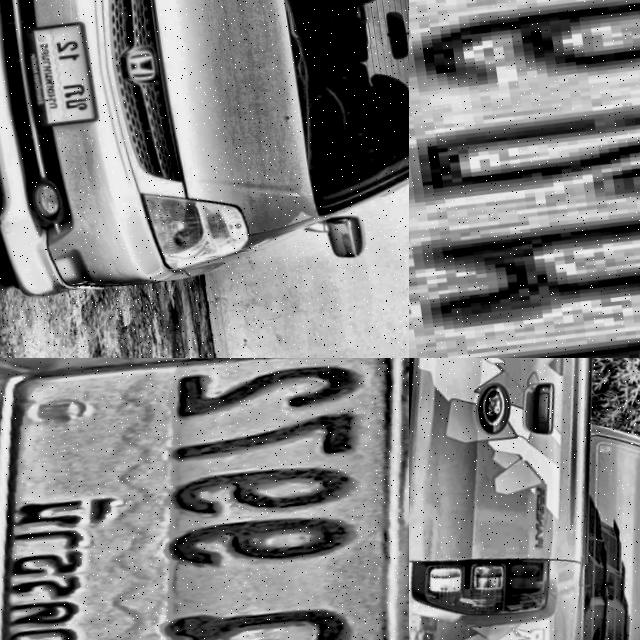license-plate: (0, 358, 409, 640), (409, 0, 640, 358), (18, 9, 106, 134), (409, 367, 426, 455)
